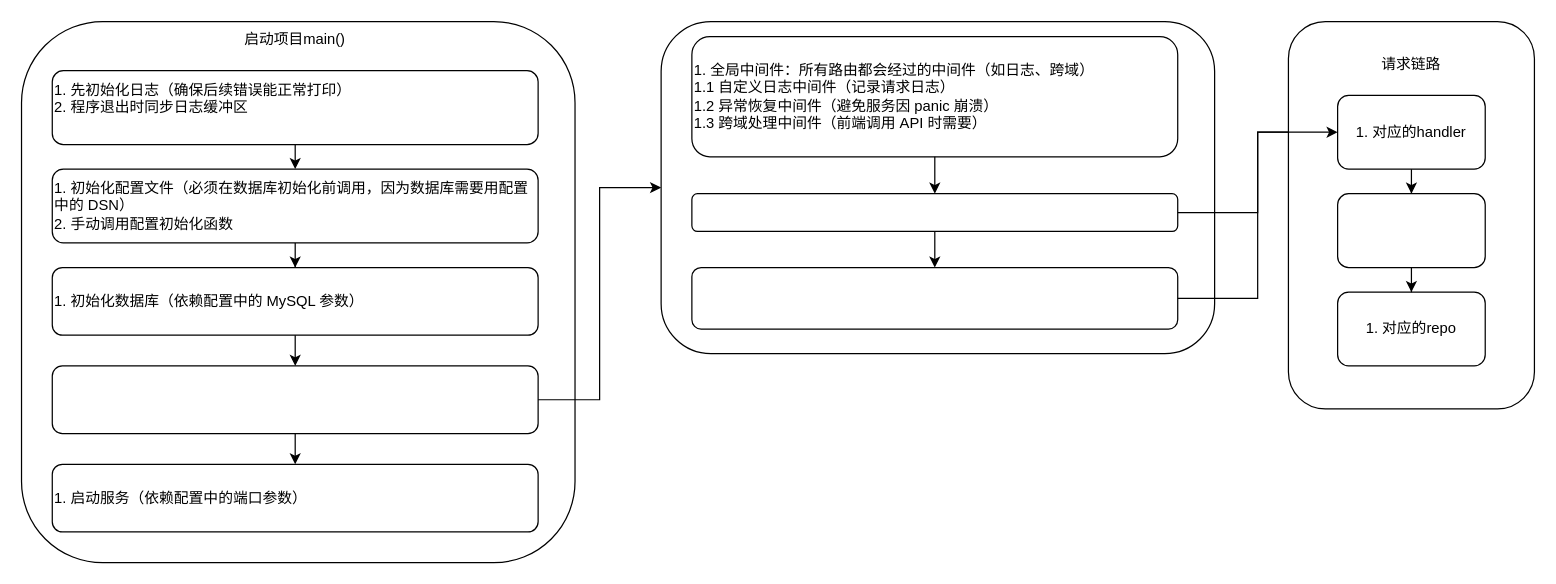
This 1556x584 diagram has some shape labels left out. The centre of each missing label's shape, as x and y in pixels:
1. 初始化 Gin 引擎和路由: (294,399)
1. 对应的service: (1410,230)
1. 无需认证的路由组（公开接口）: (934,211)
1. 需要认证的路由组（需登录才能访问） 1.1 局部中间件：JWT 认证中间件：验证 token 有效性: (934,297)
